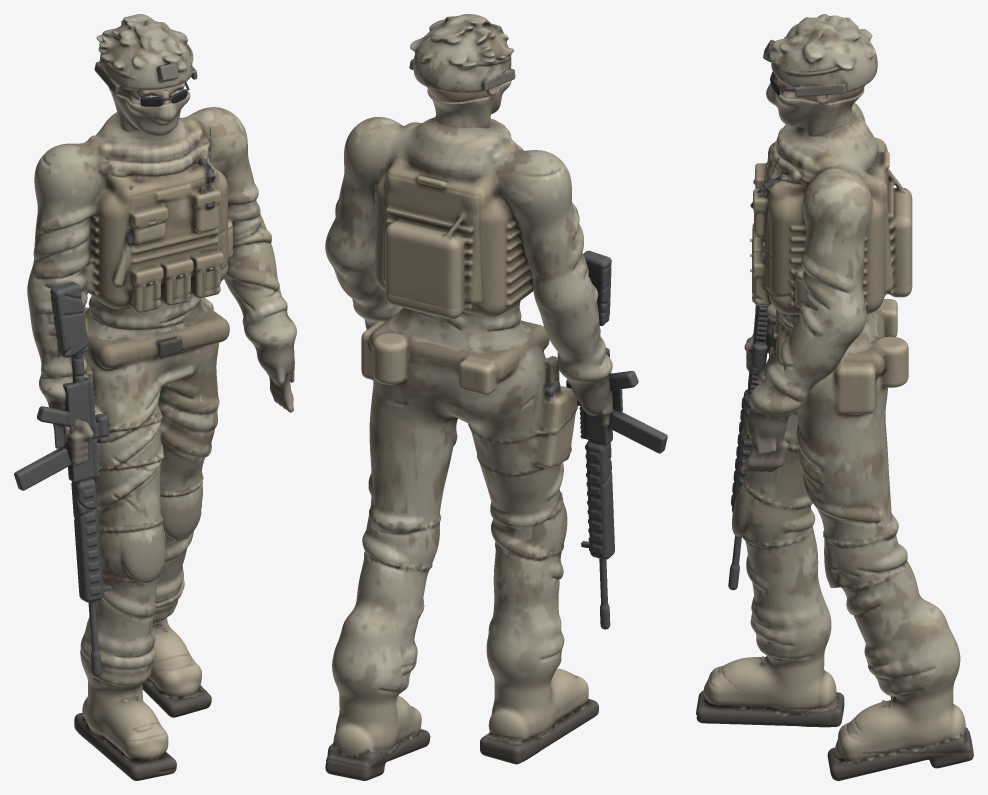
File: soldier.glb
3 renders of one model, left to right at view 1: azimuth 30°, elevation 25°; view 2: azimuth 150°, elevation 25°; view 3: azimuth 270°, elevation 25°, orthographic. The views are drawn at different scales.
Parts seen in each view (by area): view 1: Soldier; view 2: Soldier; view 3: Soldier.
Boxes of the visible parts, x1,y1,x2,y2 form: Soldier: [14, 14, 296, 780]; Soldier: [325, 14, 667, 780]; Soldier: [696, 14, 973, 780].
Bounding box in the file's own units: 0.7678 × 1.8 × 0.6242.
